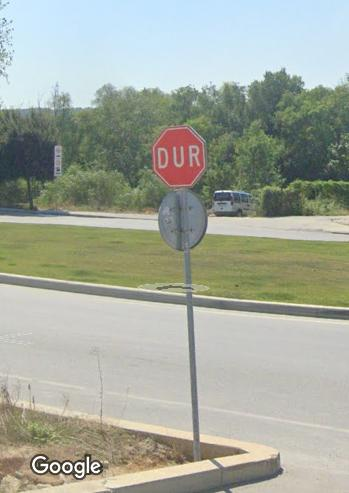stop: (154, 131, 203, 186)
